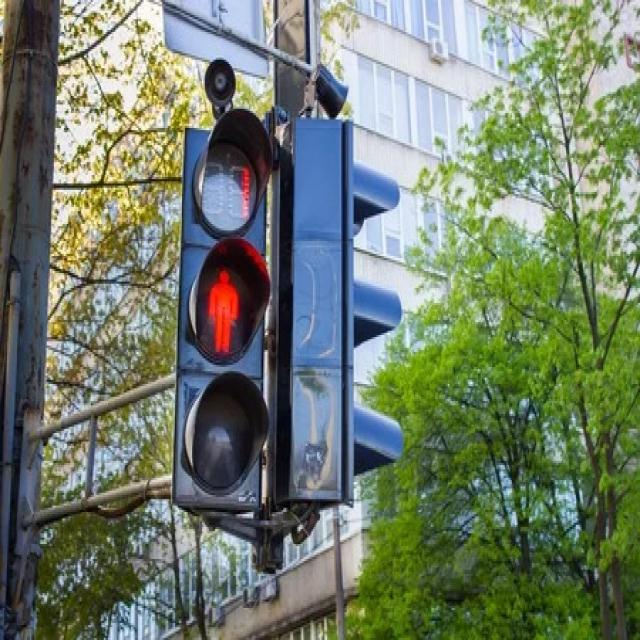Not go: (179, 131, 261, 505), (168, 249, 271, 381)
